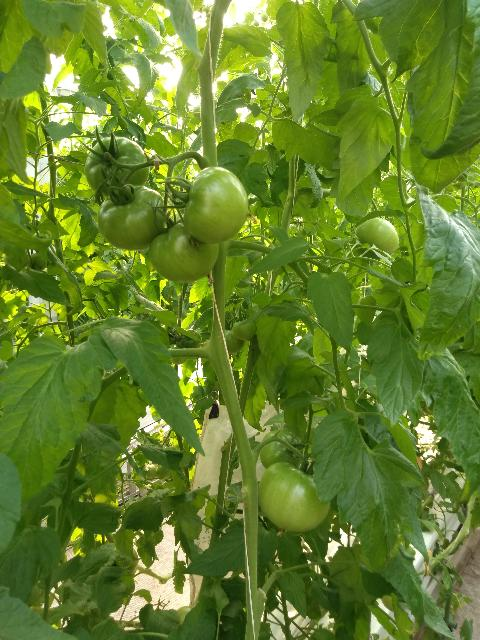b_green: (258, 461, 331, 532), (184, 167, 248, 245), (97, 184, 166, 250), (148, 223, 219, 283), (84, 136, 150, 198), (355, 217, 400, 257), (260, 430, 304, 470), (224, 329, 246, 354), (231, 320, 256, 341)
